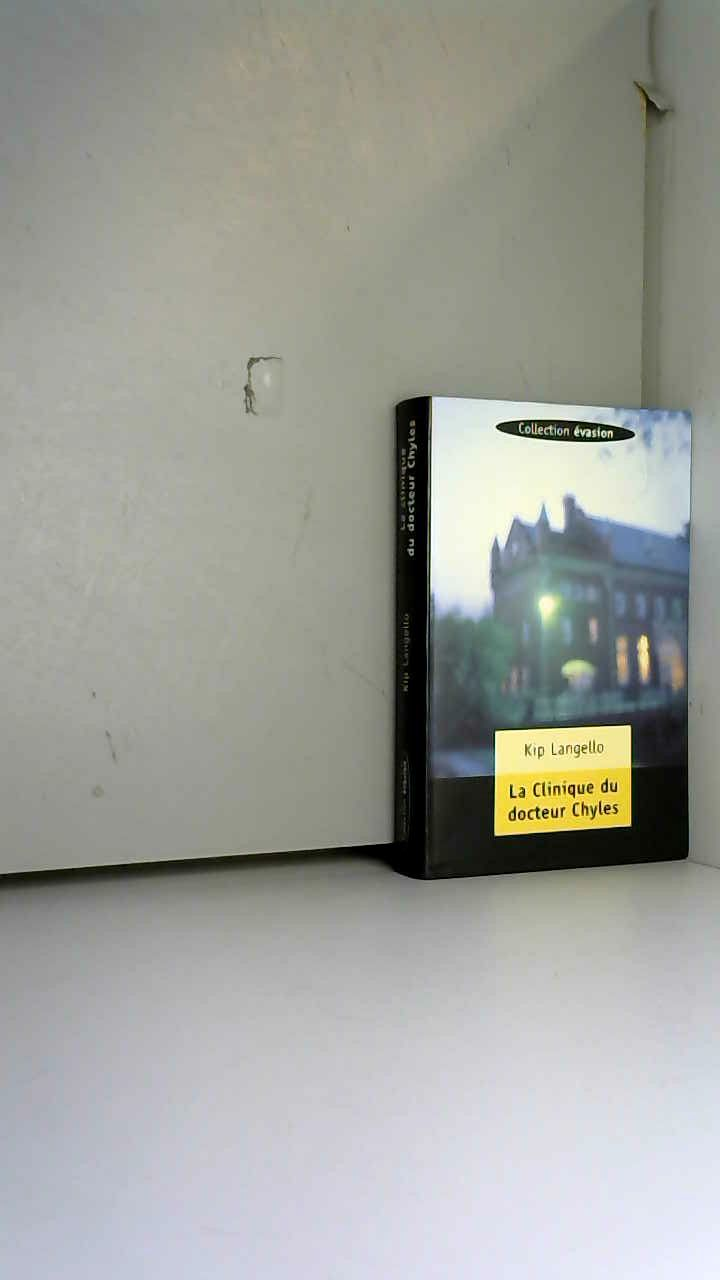book: (360, 370, 715, 908)
